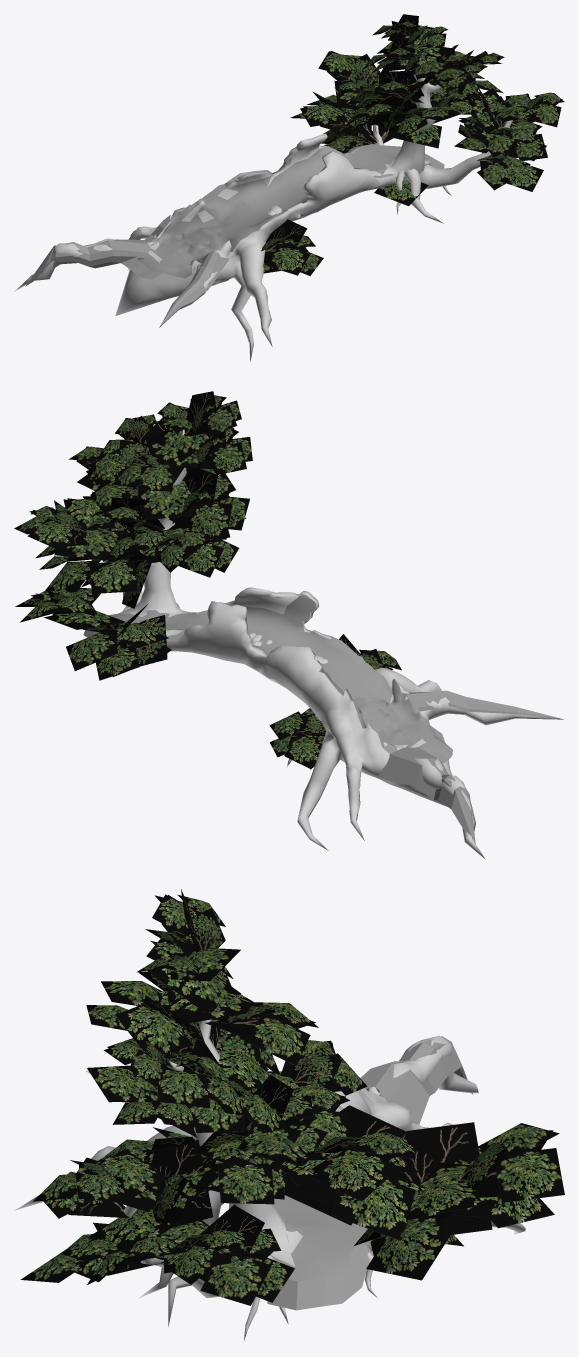
Rendered from Scene_Tree_ShuQiao_1.FBX.
3 views of the same model, one above another, from view 1: azimuth 30°, elevation 25°; view 2: azimuth 150°, elevation 25°; view 3: azimuth 270°, elevation 25° (orthographic). The views are drawn at different scales.
Visible parts, largest first — view 1: Scene_Tree_ShuQiao_1b, Scene_Tree_ShuQiao_1a, Scene_Tree_ShuQiao_1_Xzm; view 2: Scene_Tree_ShuQiao_1b, Scene_Tree_ShuQiao_1a, Scene_Tree_ShuQiao_1_Xzm; view 3: Scene_Tree_ShuQiao_1b, Scene_Tree_ShuQiao_1_Xzm, Scene_Tree_ShuQiao_1a.
Part boxes in pixels (bbox=[...]): Scene_Tree_ShuQiao_1b: bbox=[261, 14, 564, 275]; Scene_Tree_ShuQiao_1a: bbox=[14, 48, 512, 361]; Scene_Tree_ShuQiao_1_Xzm: bbox=[25, 144, 444, 324]; Scene_Tree_ShuQiao_1b: bbox=[14, 391, 401, 769]; Scene_Tree_ShuQiao_1a: bbox=[92, 429, 563, 858]; Scene_Tree_ShuQiao_1_Xzm: bbox=[83, 594, 559, 843]; Scene_Tree_ShuQiao_1b: bbox=[20, 889, 564, 1305]; Scene_Tree_ShuQiao_1_Xzm: bbox=[267, 1036, 472, 1310]; Scene_Tree_ShuQiao_1a: bbox=[14, 1019, 525, 1340].
Bounding box in the file's own units: 4904 × 3053 × 2721.
